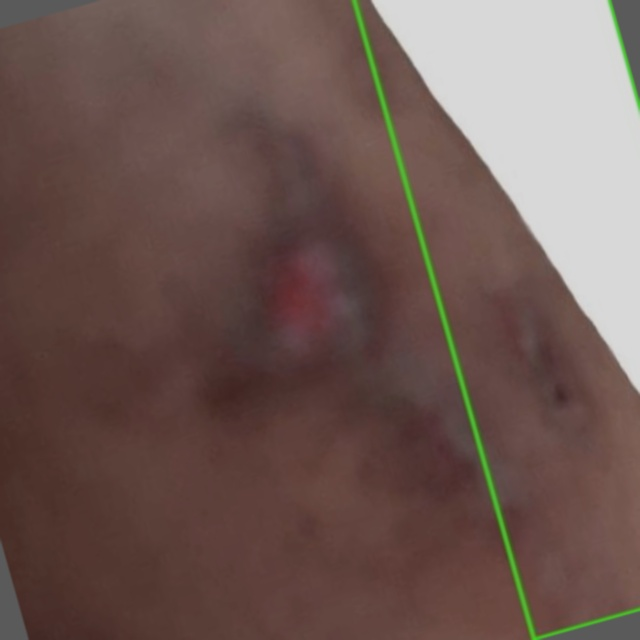Atopic Dermatitis: (354, 0, 639, 639)
